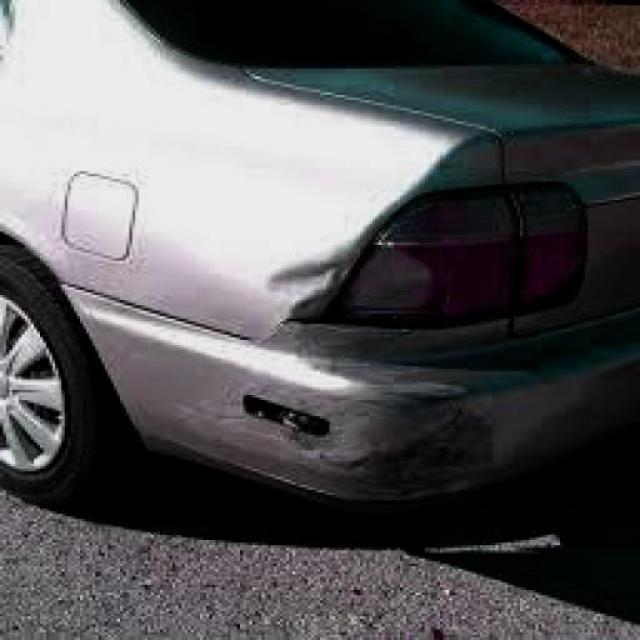Car-Damage: (174, 325, 510, 503), (254, 253, 353, 313)
